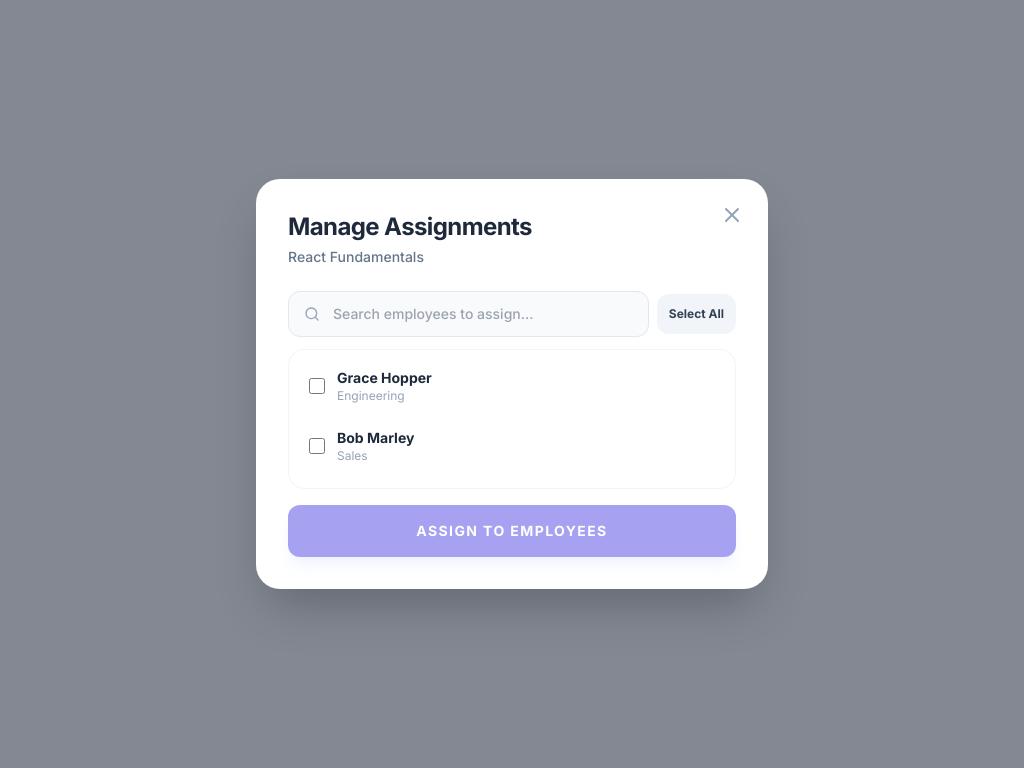
Test: AssignCourseModal › keeps the assign button disabled until at least one employee is checked
Expected: the button "Assign to Employees" is disabled, [288,505,736,557]
Click the checkbox labelled "Grace Hopper Engineering".
click(317, 386)  # box [309,378,325,394]
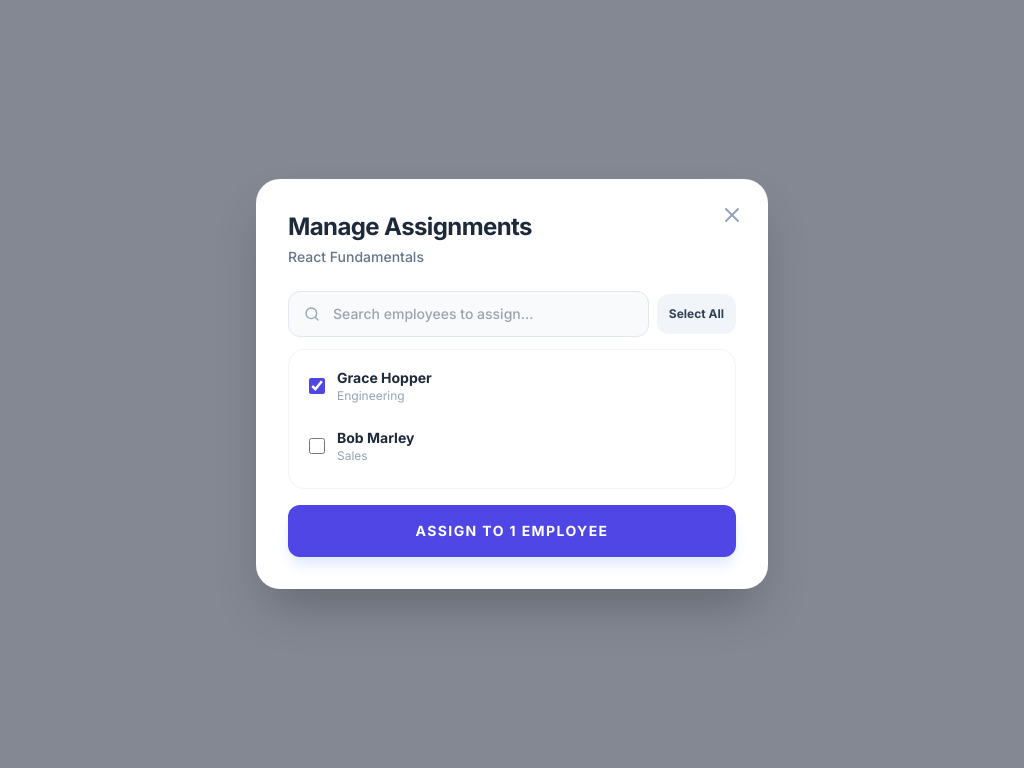
Result: the button "Assign to 1 Employee" is enabled at [288,505,736,557]
